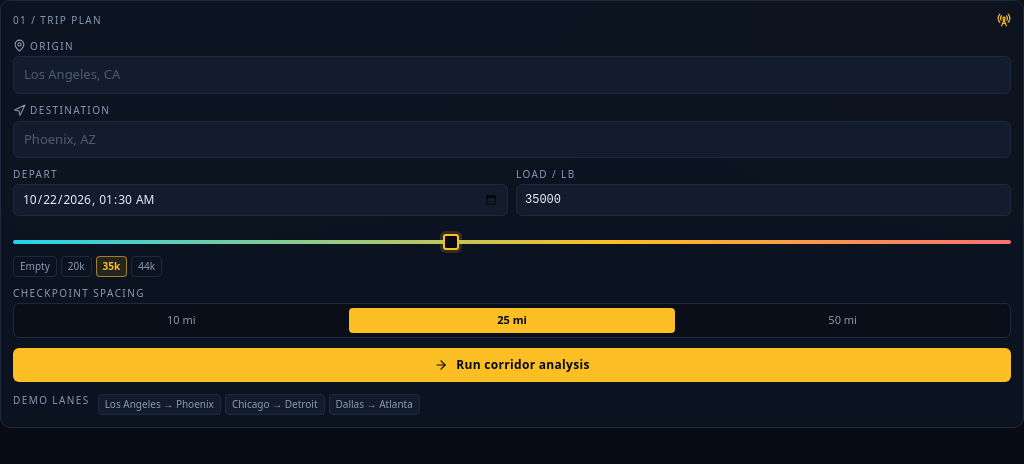
Test: PlanForm › rejects an out-of-range load
The image size is (1024, 464).
Replace the text in the number field labelled "Load / lb" with "90000". click: x=764, y=200
box: [516,184,1011,216]
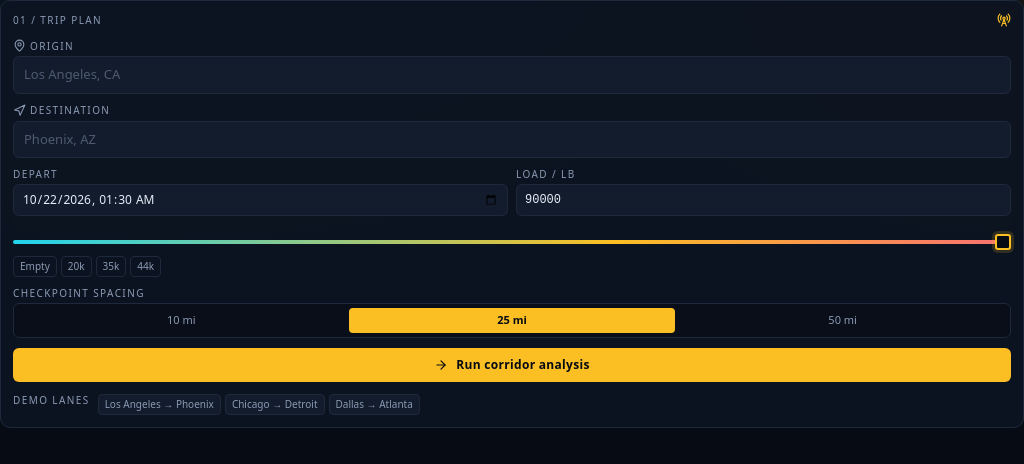
Type "LA" into the dropdown labelled "Origin". click: x=512, y=75
box: [13,56,1011,94]
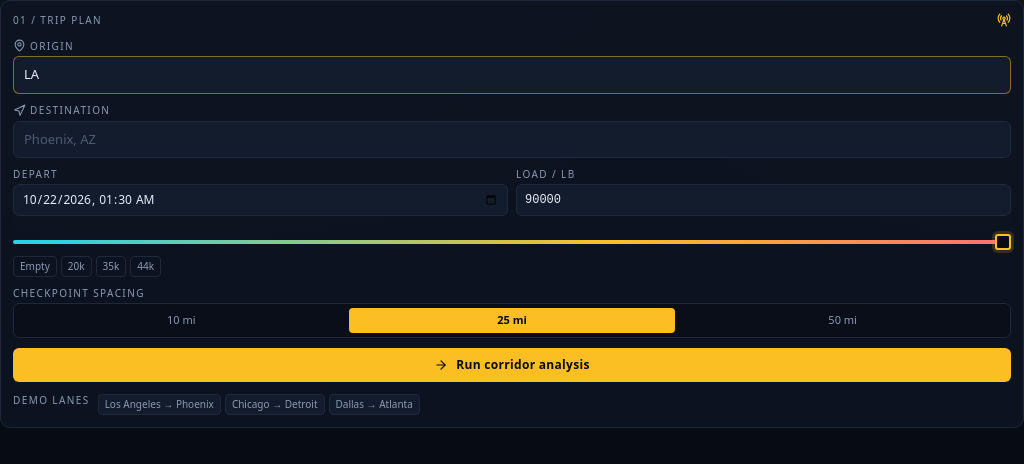
Type "PH" into the dropdown labelled "Destination". click: x=512, y=139
box: [13,120,1011,158]
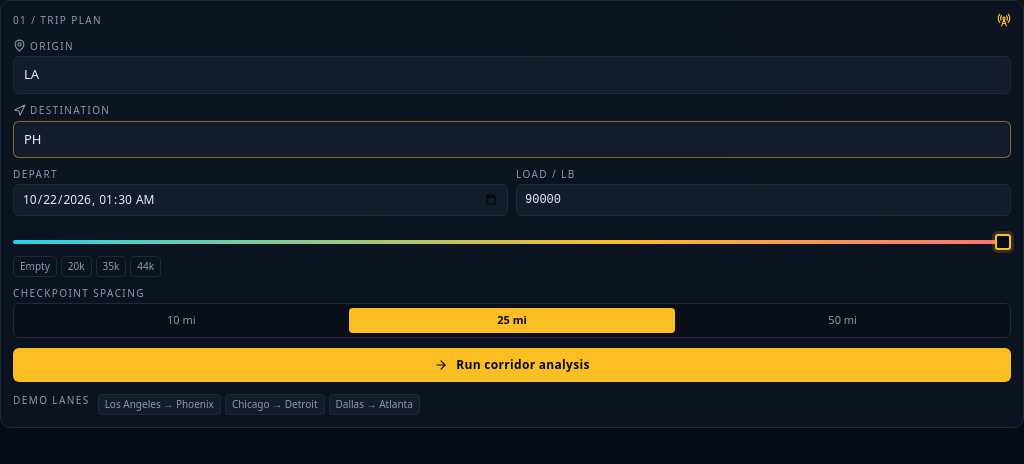
Click the button "Run corridor analysis". click: x=512, y=364
box: [13,348,1011,382]
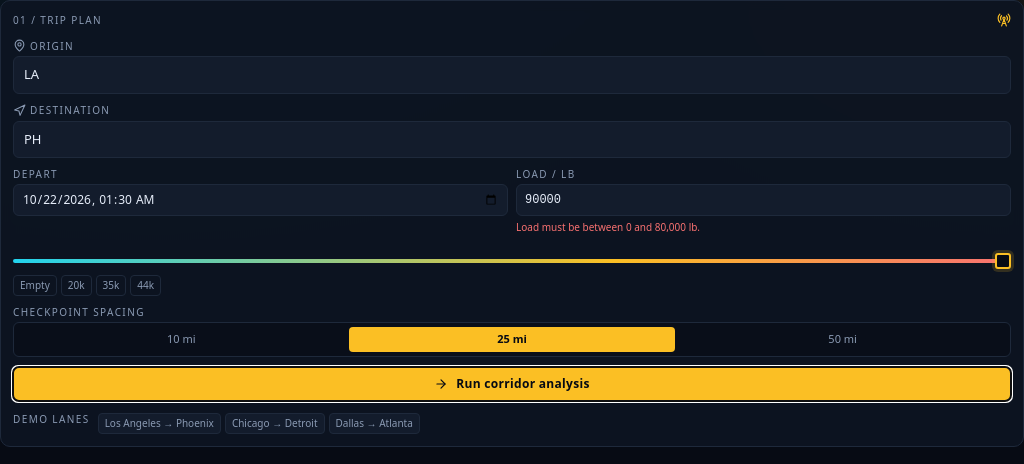
Now the text "Load must be between 0 and 80,000 lb." is shown, box [516,220,700,234]
